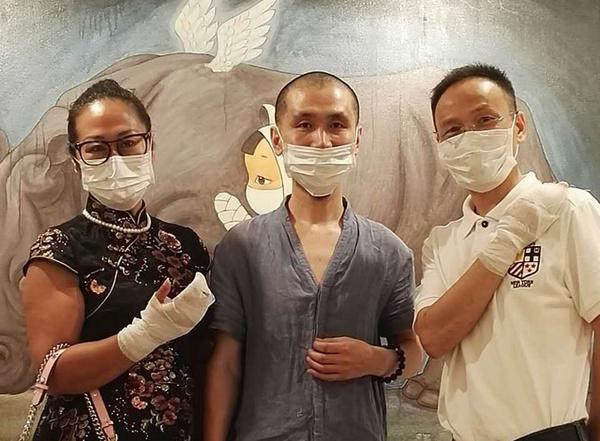OK: (437, 105, 520, 188), (77, 130, 146, 199)
WRONG: (278, 109, 359, 190)
